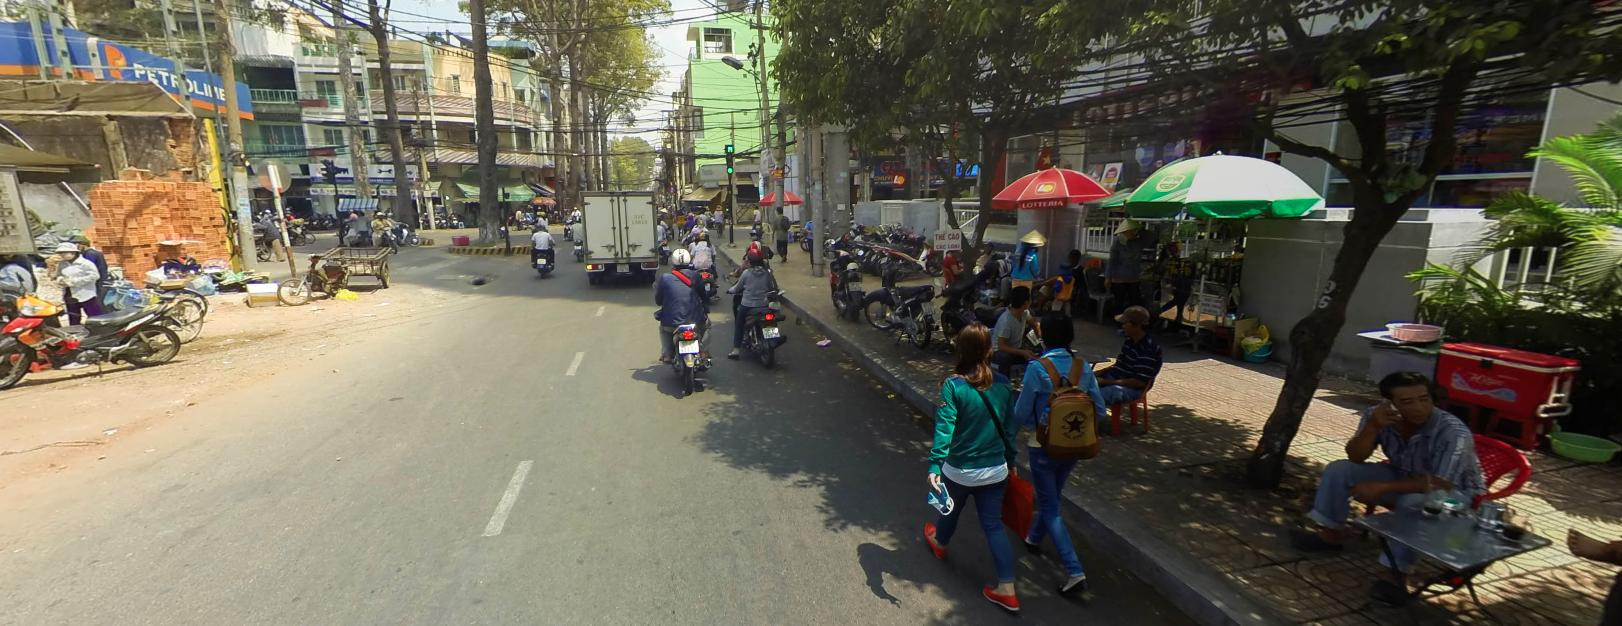Cam dung va do: (668, 184, 675, 192)
